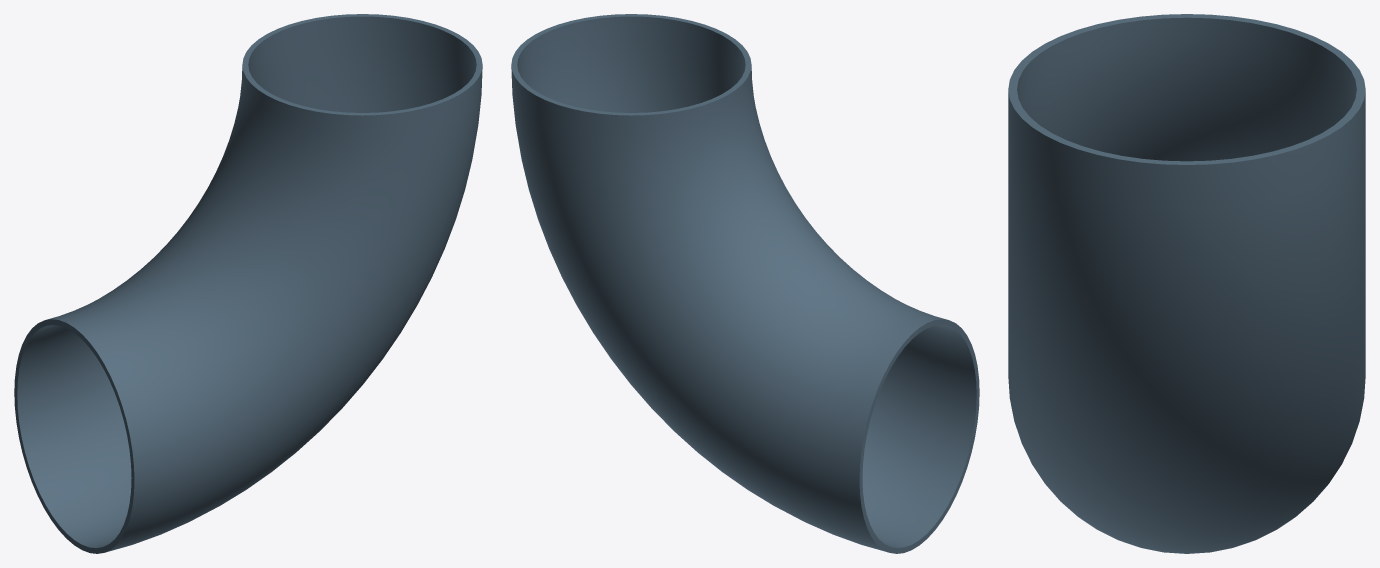
File: otvod-90-325x8-R450.glb
3 views of the same model, side by side, from view 1: azimuth 30°, elevation 25°; view 2: azimuth 150°, elevation 25°; view 3: azimuth 270°, elevation 25° (orthographic). The views are drawn at different scales.
Parts seen in each view (by area): view 1: Open CASCADE STEP translator 7.9 81; view 2: Open CASCADE STEP translator 7.9 81; view 3: Open CASCADE STEP translator 7.9 81.
Part boxes in pixels (bbox=[...]): Open CASCADE STEP translator 7.9 81: bbox=[14, 14, 482, 553]; Open CASCADE STEP translator 7.9 81: bbox=[511, 14, 979, 553]; Open CASCADE STEP translator 7.9 81: bbox=[1008, 14, 1365, 553].
Size of the model in its own units: 612 by 612 by 325.
